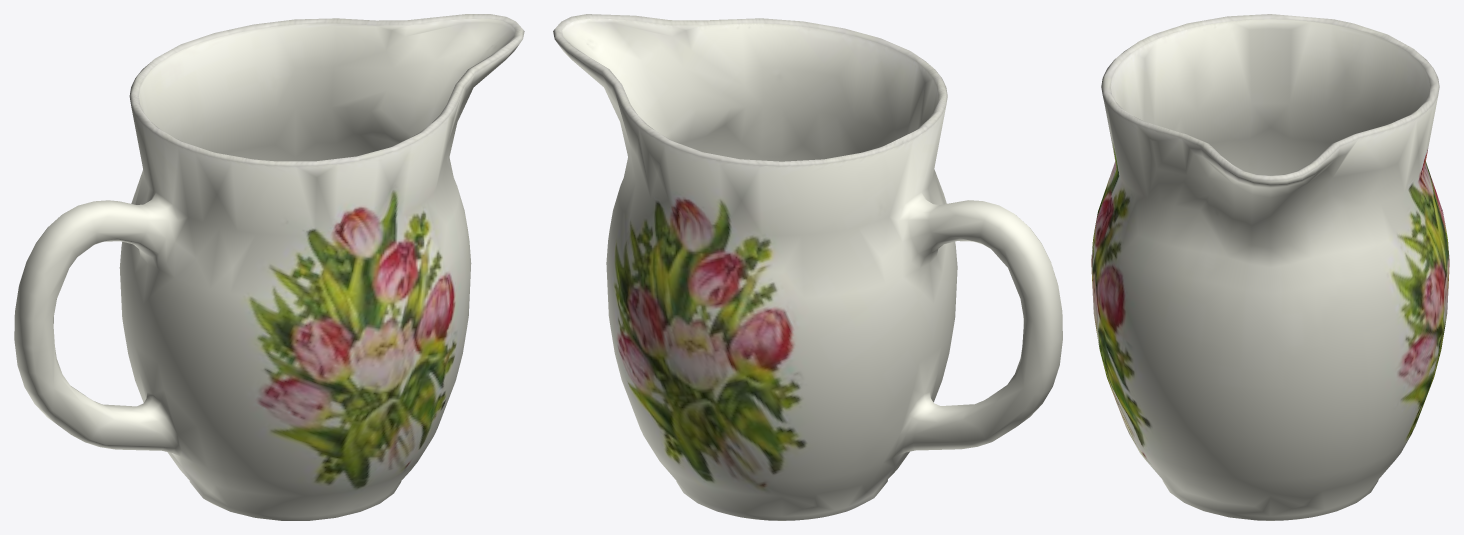
The model's file is jug_01-B3phYeYs.glb.
The picture shows the model from 3 angles, left to right: view 1: azimuth 30°, elevation 25°; view 2: azimuth 150°, elevation 25°; view 3: azimuth 270°, elevation 25°; orthographic projection. The views are drawn at different scales.
Visible parts, largest first — view 1: jug_01; view 2: jug_01; view 3: jug_01.
Part boxes in pixels (x1,y1,x2,y2): jug_01: [14, 14, 524, 520]; jug_01: [553, 14, 1062, 520]; jug_01: [1091, 14, 1449, 520].
Bounding box in the file's own units: 0.275 × 0.2113 × 0.1675.
Materials: 1 (1 with a texture image).
